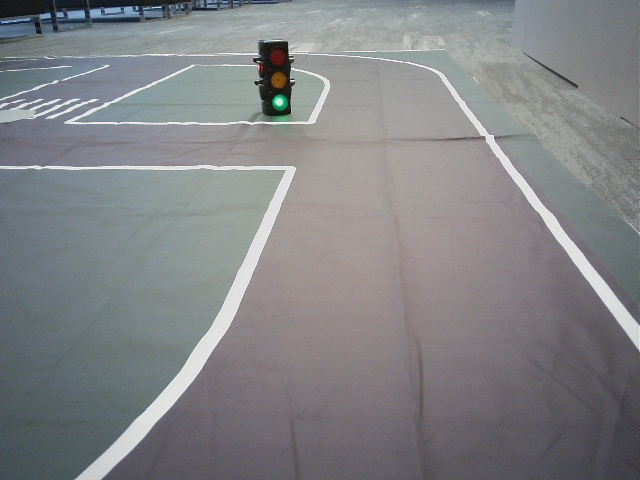green: (262, 43, 291, 115)
